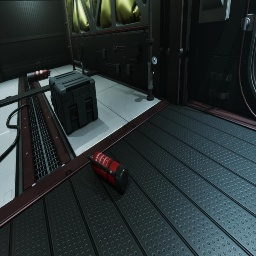FireExtinguisher ]: (87, 151, 129, 192)
NitrogenTank ,: (27, 69, 50, 83)
SafetySwitchPanel ,: (198, 0, 231, 24)
